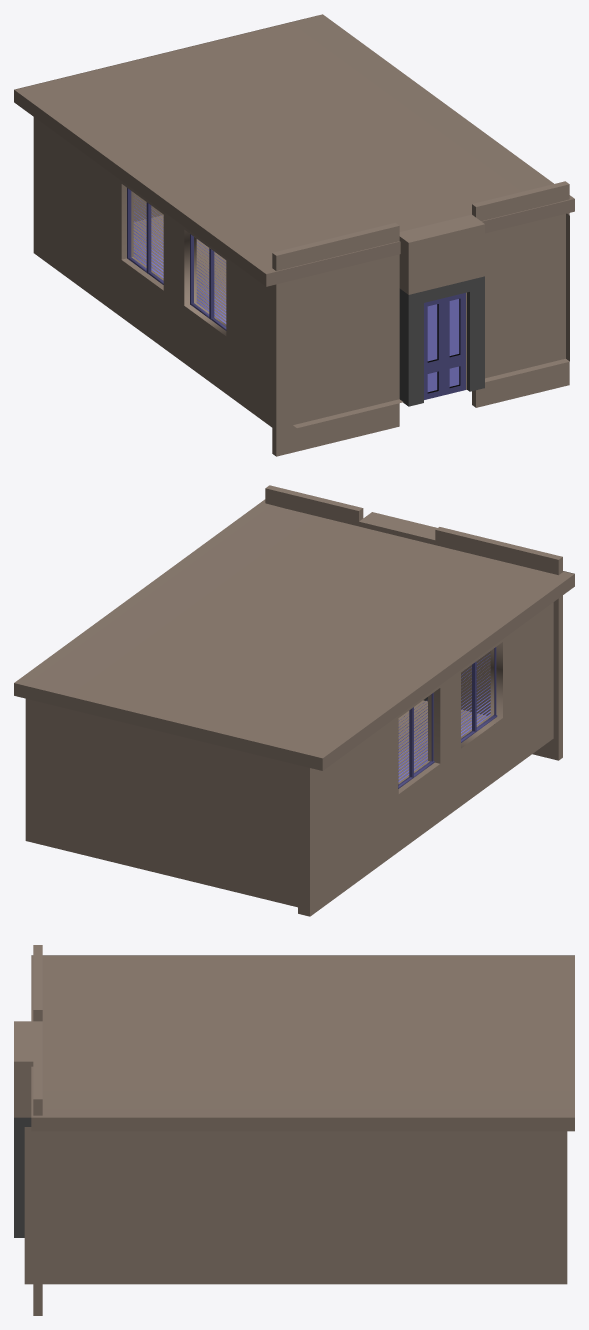
File: room_main.glb
3 renders of one model, top to bottom at view 1: azimuth 30°, elevation 25°; view 2: azimuth 150°, elevation 25°; view 3: azimuth 270°, elevation 25°, orthographic. The views are drawn at different scales.
Visible parts, largest first — view 1: 223_Decke, 239_Wand_Fenster, 222_Würfel, 222_Würfel.001, Cube.010, 224_Wand, Cube.012, 240_Würfel.5_2, 240_Würfel.5_2.001, 301_Würfel.5_26_1, 236_Würfel.6_1.001, 274_Würfel.5_26; view 2: 223_Decke, 224_Wand, 239_Wand_Fenster, 222_Würfel, 222_Würfel.001, 240_Würfel.5_2, Cube.010, 241_Würfel.4_3, 301_Würfel.5_26_1, 274_Würfel.5_26, 236_Würfel.6_1.001; view 3: 223_Decke, 224_Wand, Cube.010, 222_Würfel.001, 222_Würfel.
Boxes of the visible parts, x1,y1,x2,y2 form: 223_Decke: (14,14,574,286); 239_Wand_Fenster: (33,117,272,427); 222_Würfel: (272,222,399,456); 222_Würfel.001: (472,181,569,407); Cube.010: (399,214,484,406); 224_Wand: (133,193,569,427); Cube.012: (424,293,465,399); 240_Würfel.5_2: (184,230,226,335); 240_Würfel.5_2.001: (121,184,163,290); 301_Würfel.5_26_1: (133,196,163,278); 236_Würfel.6_1.001: (127,188,163,284); 274_Würfel.5_26: (196,241,226,323); 223_Decke: (14,499,574,770); 224_Wand: (25,698,486,907); 239_Wand_Fenster: (298,602,553,916); 222_Würfel: (435,527,562,760); 222_Würfel.001: (265,485,363,526); 240_Würfel.5_2: (461,642,502,748); Cube.010: (359,512,437,701); 241_Würfel.4_3: (398,688,440,794); 301_Würfel.5_26_1: (398,700,427,782); 274_Würfel.5_26: (461,652,490,736); 236_Würfel.6_1.001: (398,693,434,788); 223_Decke: (31,955,574,1131); 224_Wand: (24,1127,567,1284); Cube.010: (14,1021,42,1237); 222_Würfel.001: (33,1050,42,1315); 222_Würfel: (33,945,42,1021).
Bounding box in the file's own units: 509 × 316 × 743.
